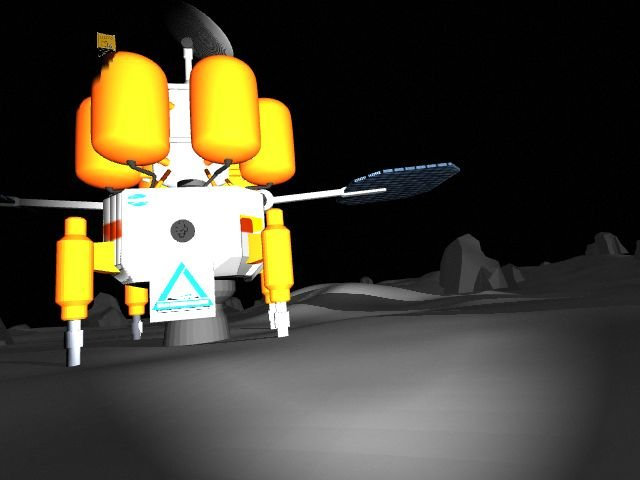basemarker: (151, 259, 216, 311)
